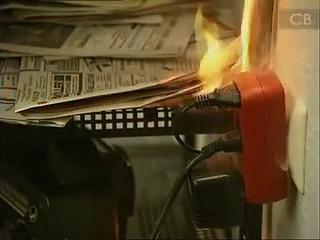Fire: (185, 1, 283, 93)
